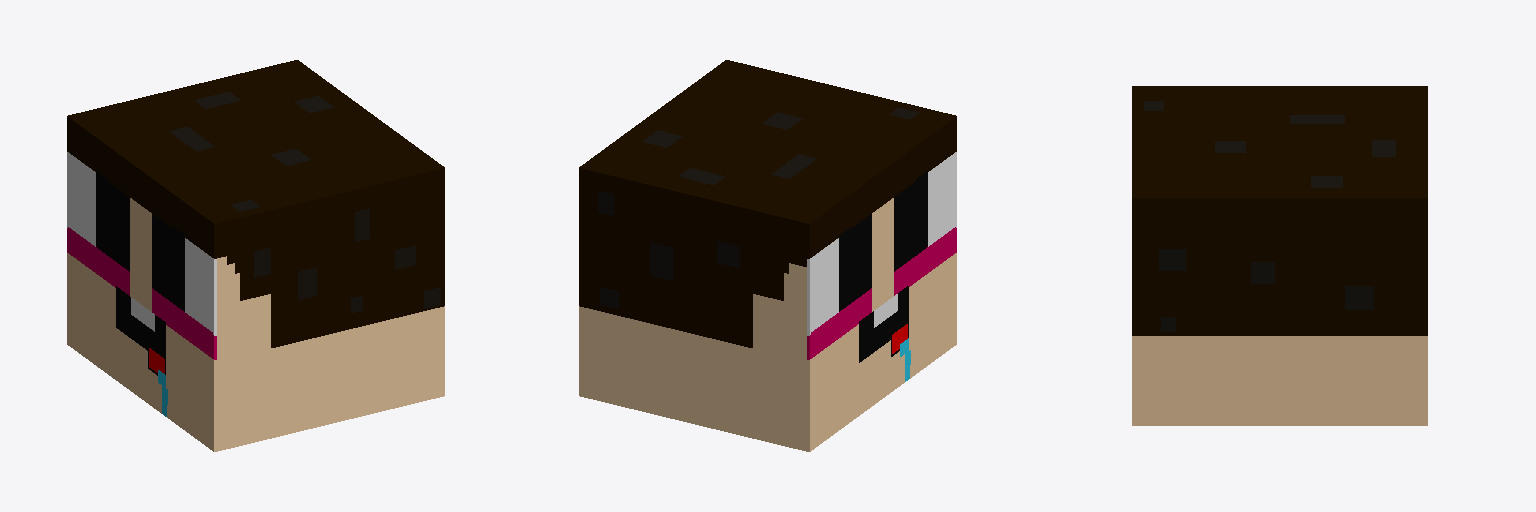
3 views of the same model, side by side, from view 1: azimuth 30°, elevation 25°; view 2: azimuth 150°, elevation 25°; view 3: azimuth 270°, elevation 25° (orthographic).
Parts seen in each view (by area): view 1: object 1; view 2: object 1; view 3: object 1.
Boxes of the visible parts, x1=… form: object 1: x1=67, y1=60, x2=444, y2=451; object 1: x1=579, y1=60, x2=956, y2=451; object 1: x1=1132, y1=86, x2=1427, y2=425.
Bounding box in the file's own units: 11 × 10.4 × 12.2.
1 materials, 1 textured.